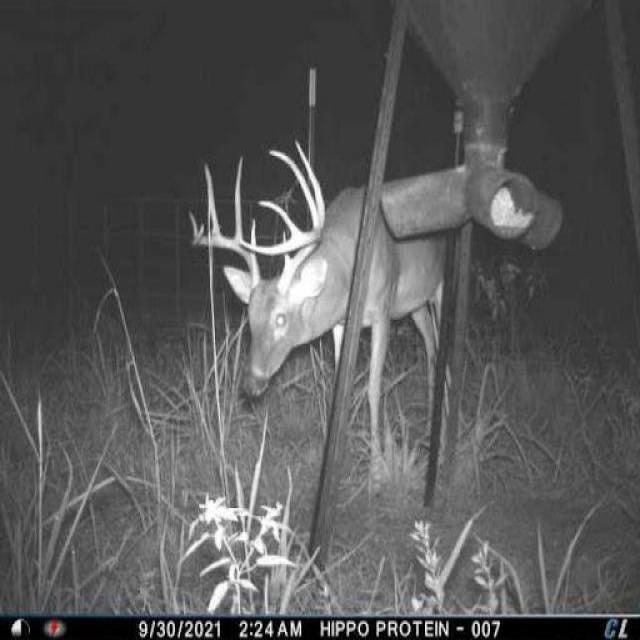deer: (184, 131, 480, 504)
